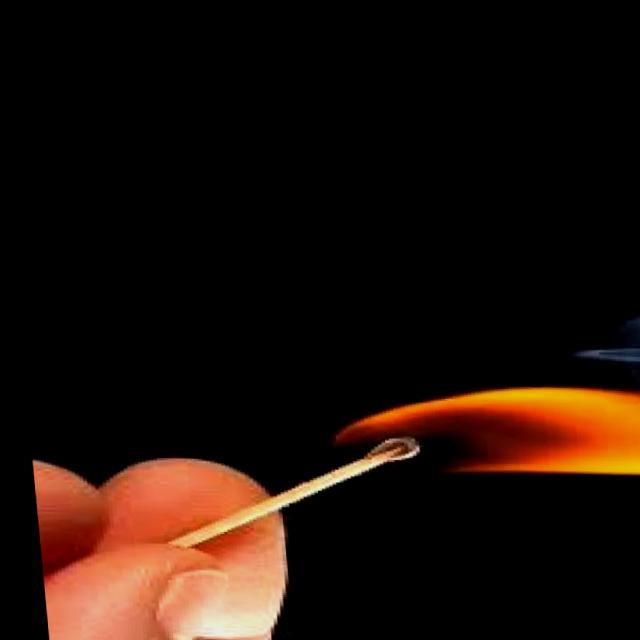helmet: (326, 354, 640, 480)
